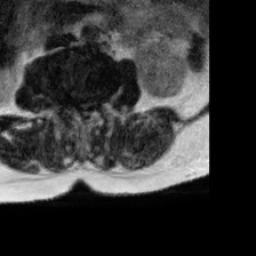CCS_severe_stenosis: (80, 96, 88, 121)
LFS_severe_stenosis: (96, 88, 104, 112)
LLS_severe_stenosis: (88, 95, 96, 115)
RFS_severe_stenosis: (64, 88, 72, 111)
RLS_severe_stenosis: (72, 93, 80, 115)
